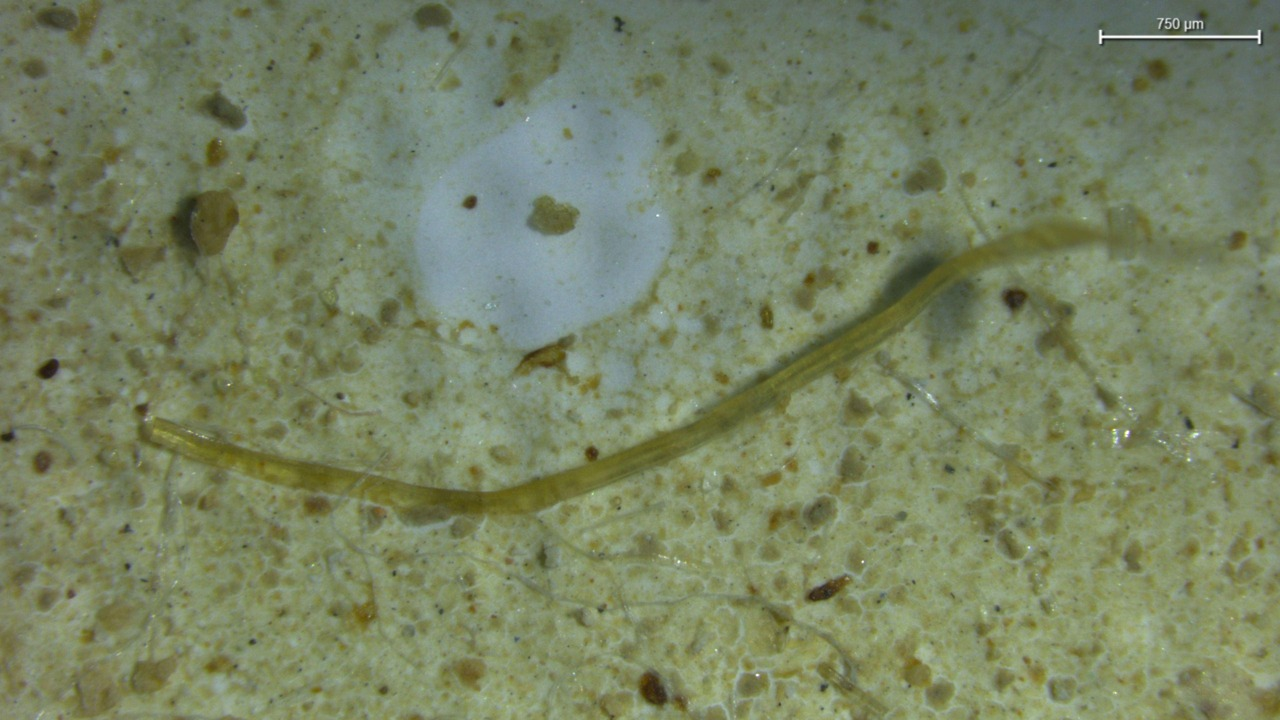microplastic_fragment: (189, 190, 239, 256)
